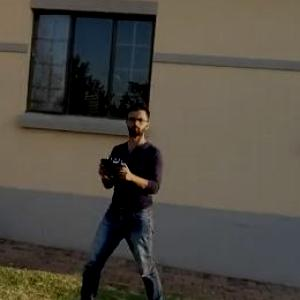follow: (65, 98, 167, 299)
